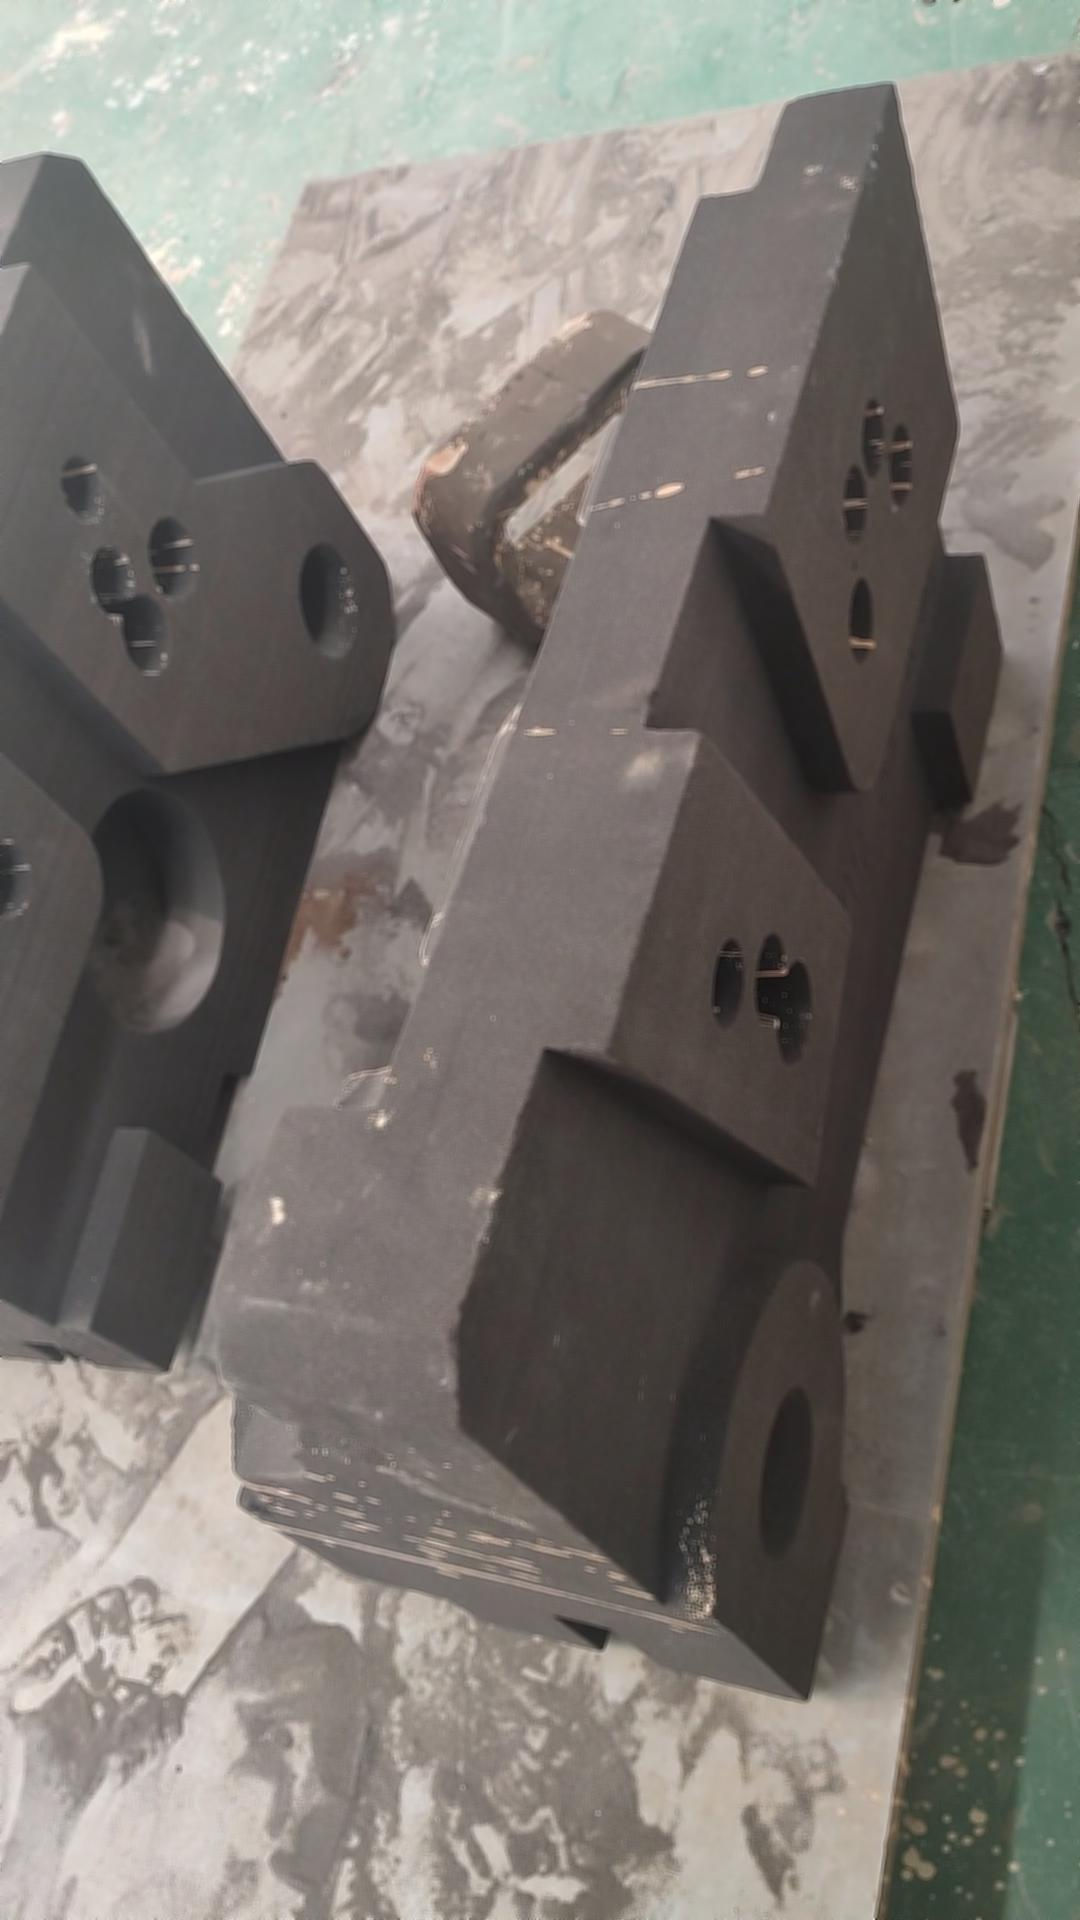pouring hole: (760, 1386, 814, 1559), (299, 545, 360, 655)
